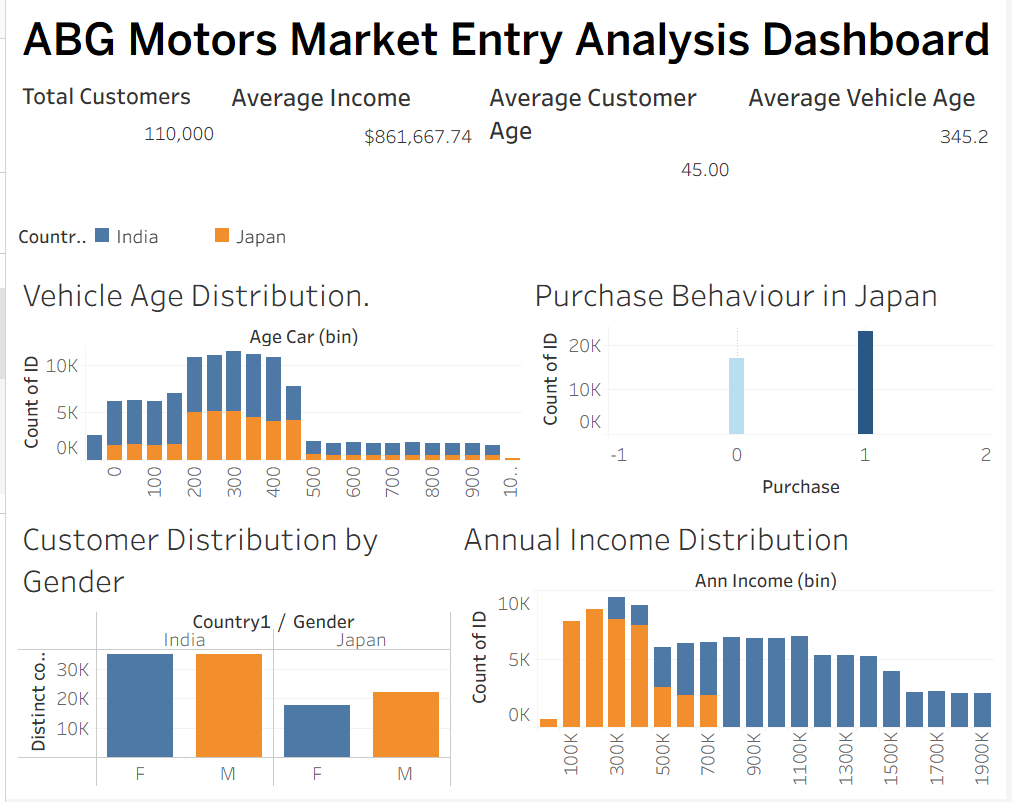

What the dashboard file says about the page in this screenshot:
{"tool":"tableau","page":{"name":"Dashboard 1","canvas":[1000,800],"ordinal":0},"visuals":[{"type":"title","box":[8,8,984,65]},{"type":"worksheet","title":"Total Customers","mark":"Automatic","box":[8,73,209,147]},{"type":"worksheet","title":"Average Income","mark":"Automatic","box":[217,73,258.3,147]},{"type":"worksheet","title":"Average Customer Age","mark":"Automatic","box":[475.3,73,258.3,147]},{"type":"worksheet","title":"Average Vehicle Age","mark":"Automatic","box":[733.7,73,258.3,147]},{"type":"legend","title":"Vehicle Age Distribution.","param":"[federated.0cp5vcm07s8nt71697w9a08zkoxp].[none:Country:nk]","box":[8,220,984,46]},{"type":"worksheet","title":"Vehicle Age Distribution.","mark":"Bar","rows":["ID"],"cols":["Age Car (bin)"],"box":[8,266,512,244]},{"type":"worksheet","title":"Purchase Behaviour in Japan","mark":"Bar","rows":["ID"],"cols":["PURCHASE"],"box":[520,266,472,244]},{"type":"worksheet","title":"Customer Distribution by Gender","mark":"Automatic","rows":["ID"],"cols":["Country","GENDER"],"box":[8,510,441,282]},{"type":"worksheet","title":"Annual Income Distribution","mark":"Bar","rows":["ID"],"cols":["Ann Income (bin)"],"box":[449,510,543,282]}]}

Visuals, with their boxes in screenshot pixels (x1, y1, x2, y2), scaled from the page's 1000x800 canvas onto the 1012x802 screenshot:
title: box(8, 8, 1004, 73)
"Total Customers" worksheet: box(8, 73, 220, 221)
"Average Income" worksheet: box(220, 73, 481, 221)
"Average Customer Age" worksheet: box(481, 73, 742, 221)
"Average Vehicle Age" worksheet: box(743, 73, 1004, 221)
"Vehicle Age Distribution." legend: box(8, 221, 1004, 267)
"Vehicle Age Distribution." worksheet (Bar marks): box(8, 267, 526, 511)
"Purchase Behaviour in Japan" worksheet (Bar marks): box(526, 267, 1004, 511)
"Customer Distribution by Gender" worksheet: box(8, 511, 454, 794)
"Annual Income Distribution" worksheet (Bar marks): box(454, 511, 1004, 794)
